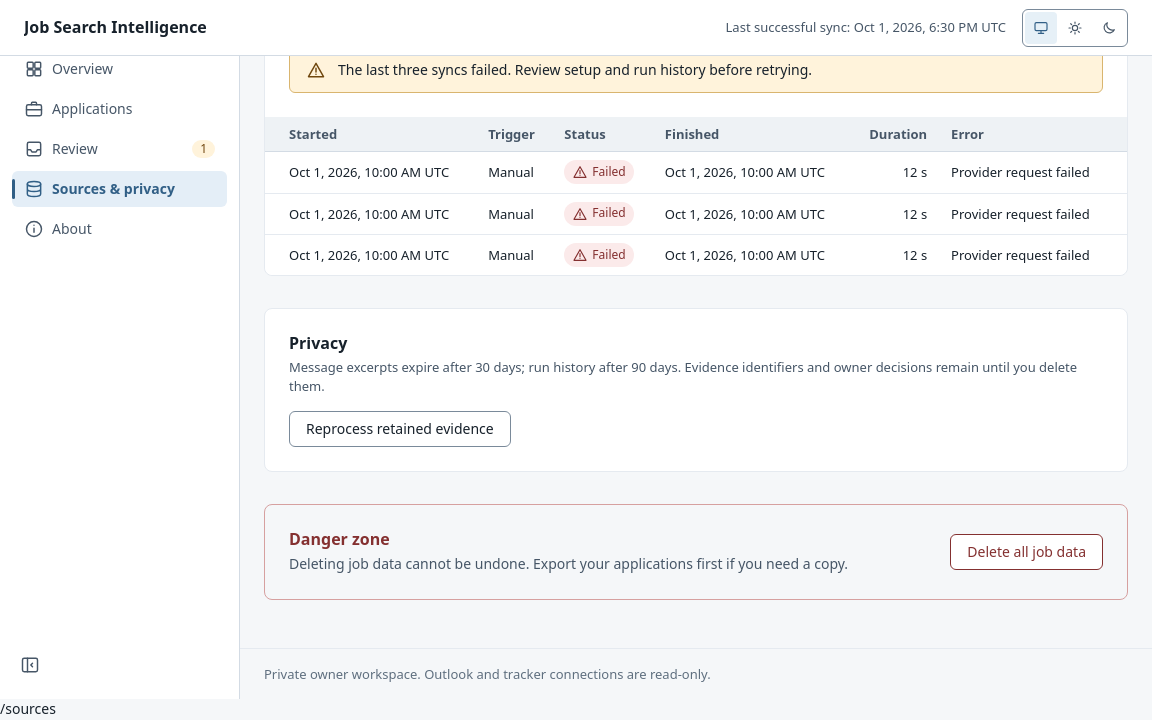
Scenario: delete all job data › can be dismissed without deleting anything
The width and height of the screenshot is (1152, 720).
(page scrolled)
Click the button "Delete all job data": {"x": 1027, "y": 552} [950,534,1103,570]
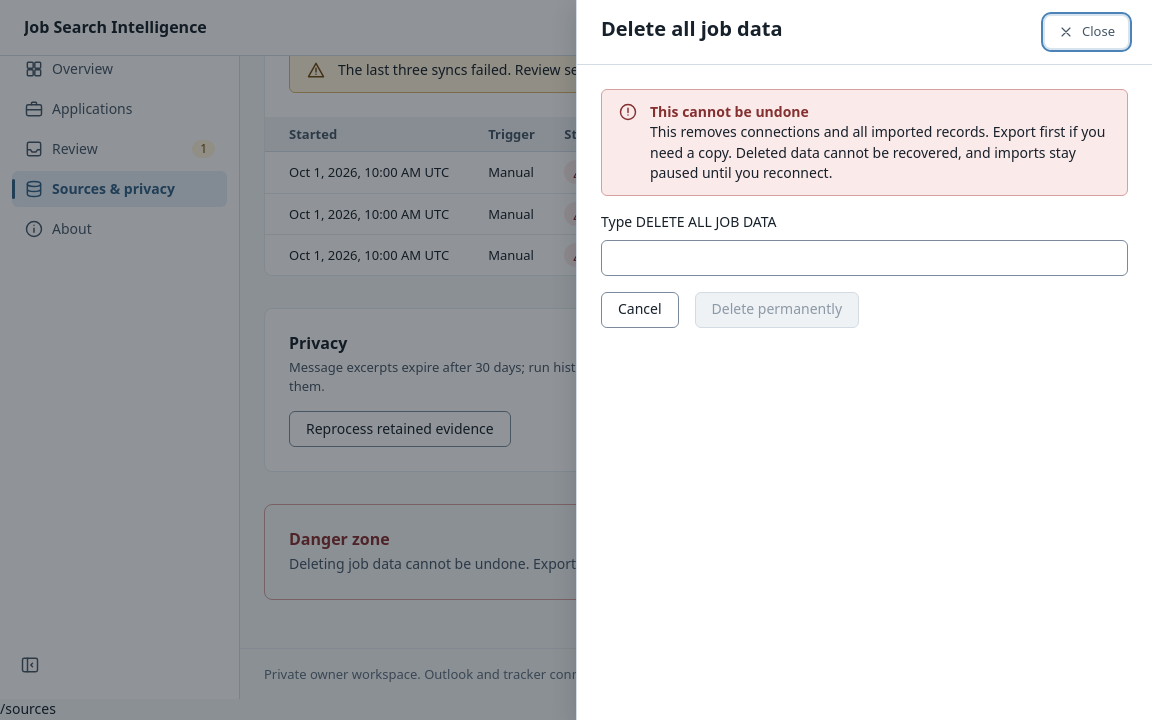
In the field labelled "Type DELETE ALL JOB DATA": {"x": 864, "y": 258} [601,240,1128,276], type "DELETE ALL JOB DATA"
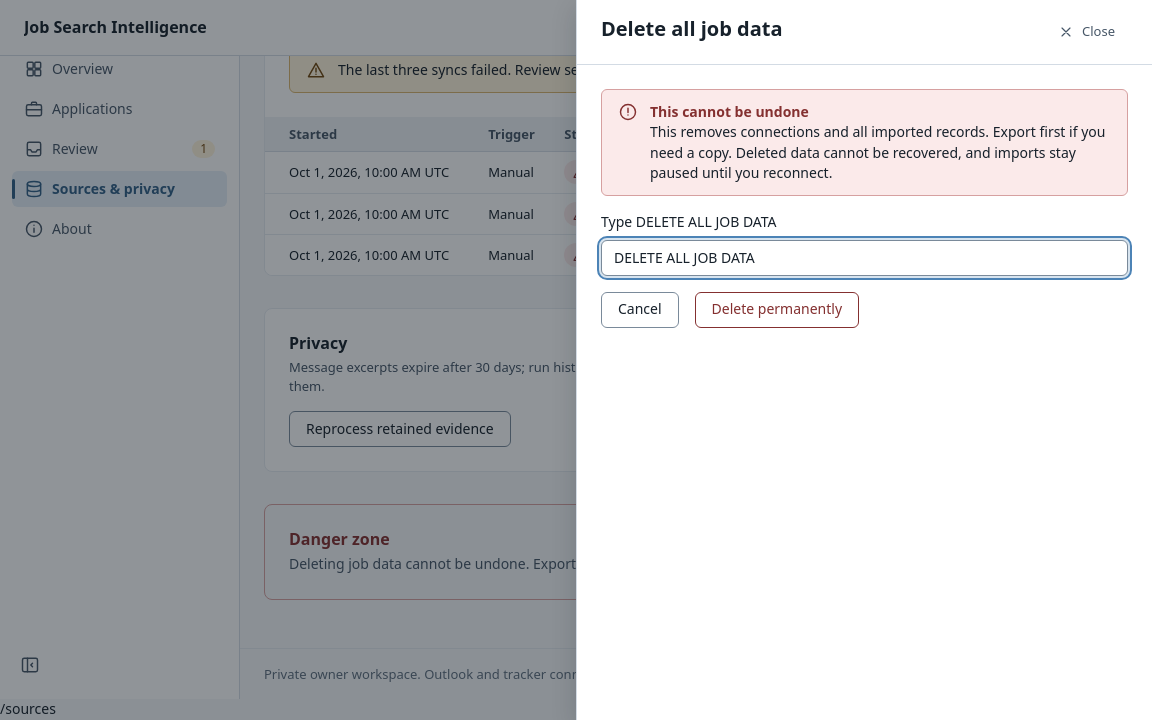
Click the button "Cancel": {"x": 640, "y": 310} [601,292,679,328]
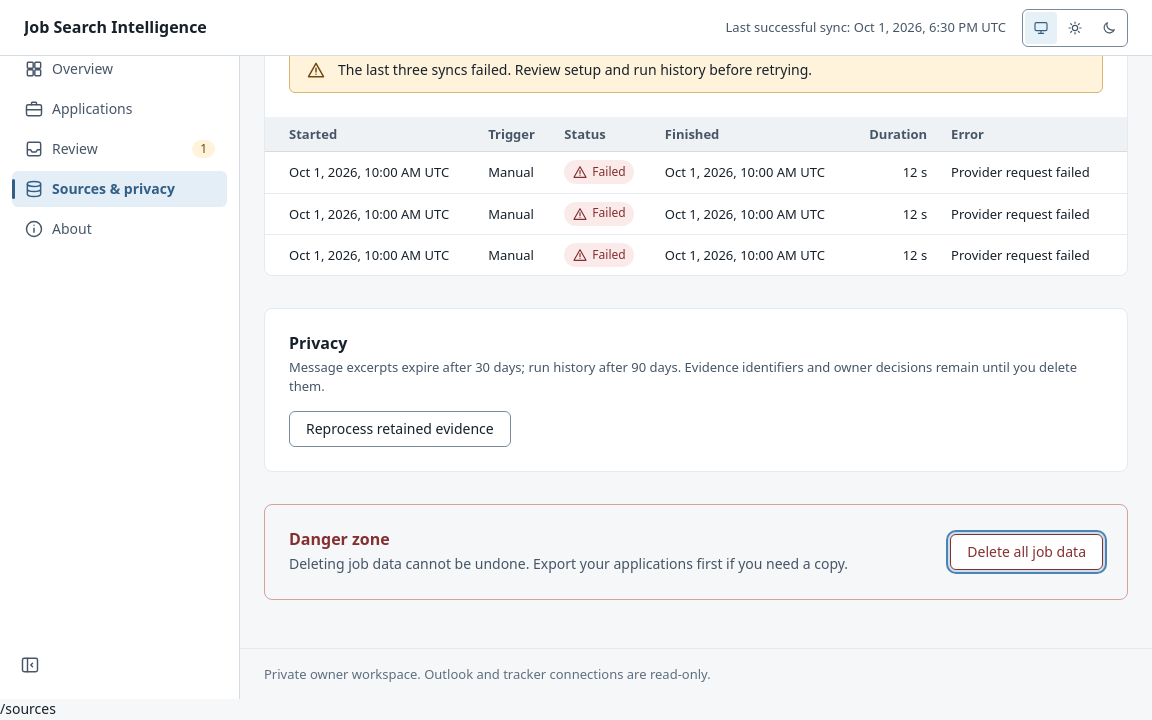
Now the dialog is gone
Click the button "Delete all job data": {"x": 1027, "y": 552} [950,534,1103,570]
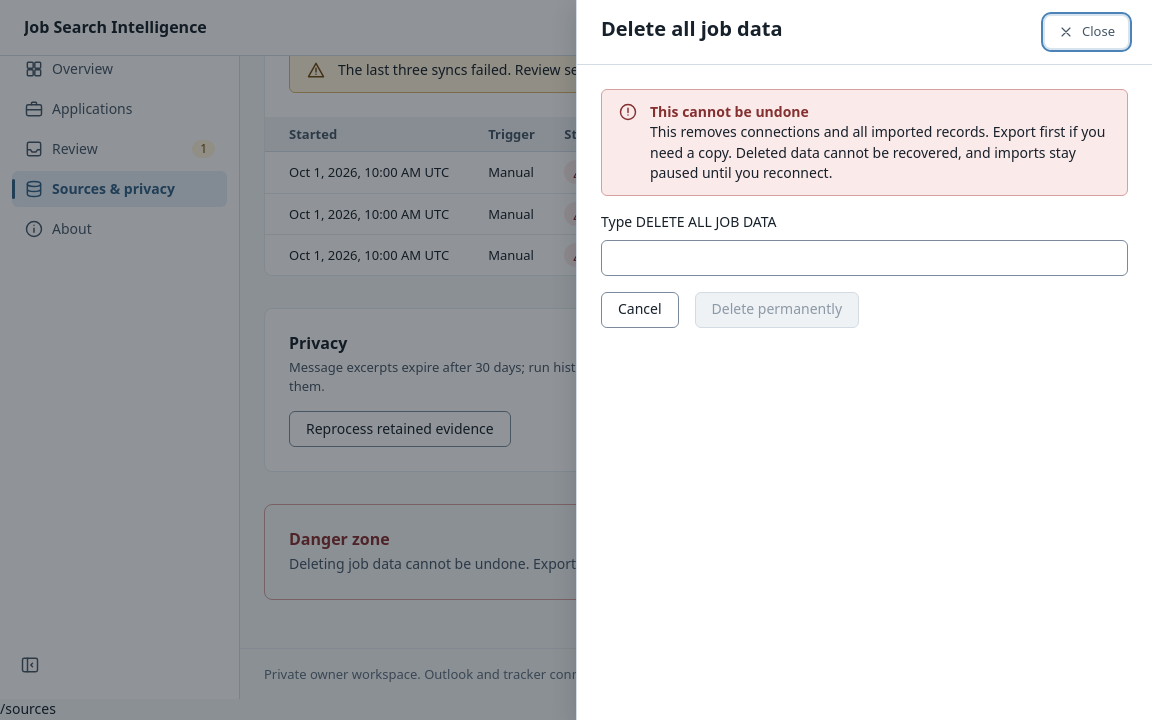
Now the field labelled "Type DELETE ALL JOB DATA" is empty, box [601,240,1128,276]
Click the button "Close": {"x": 1086, "y": 32} [1045,16,1128,48]
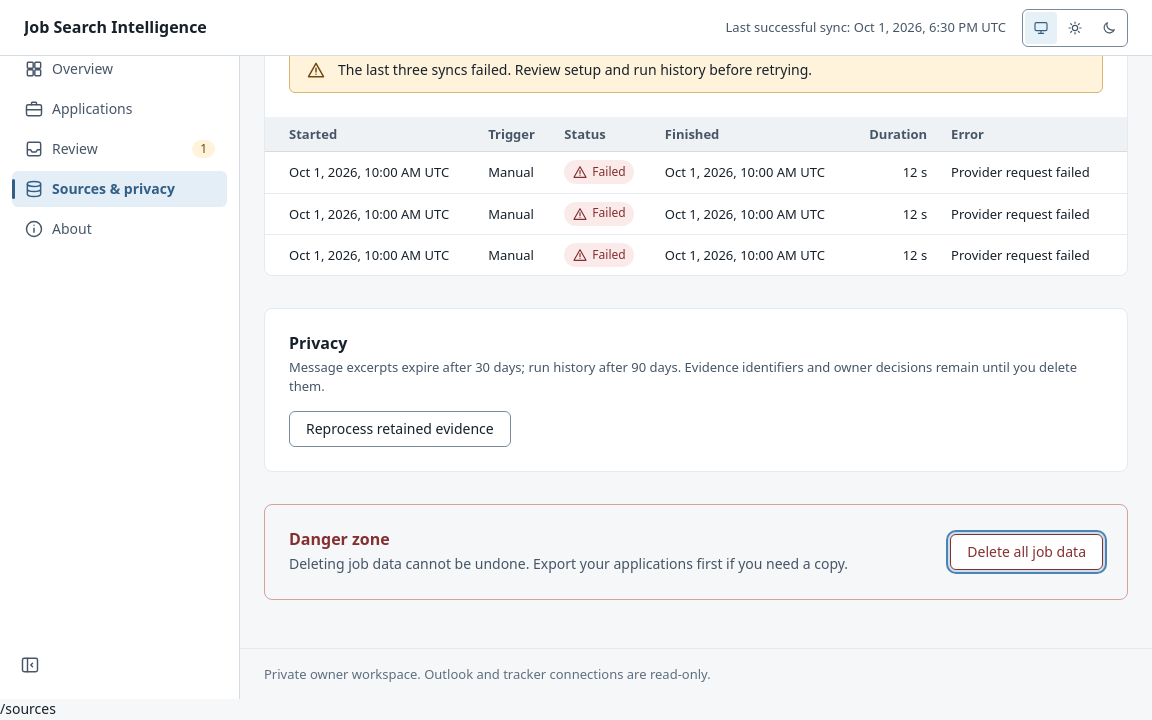
Now the dialog is gone
